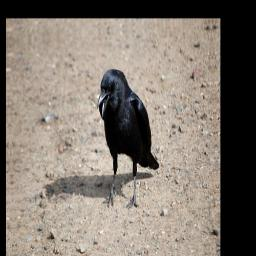Crow: (95, 64, 161, 212)
